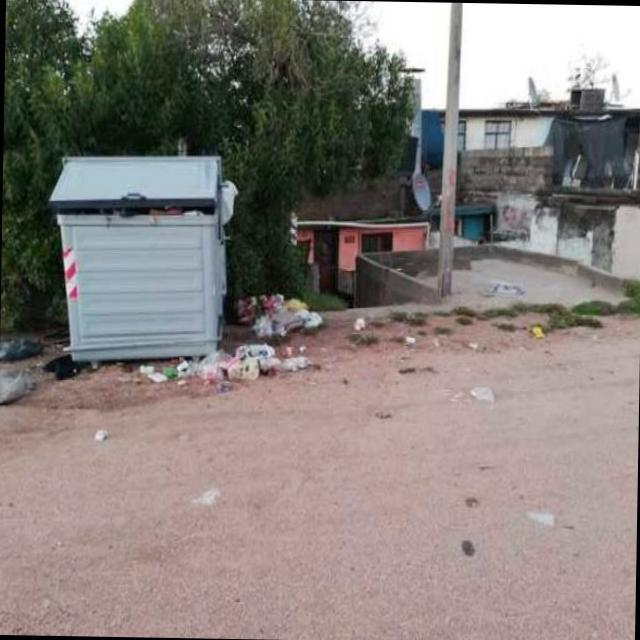garbage: (228, 280, 356, 382), (101, 345, 235, 395), (0, 325, 37, 409), (44, 341, 82, 388), (459, 373, 496, 415), (492, 266, 522, 304), (393, 325, 423, 355), (521, 322, 551, 340)
